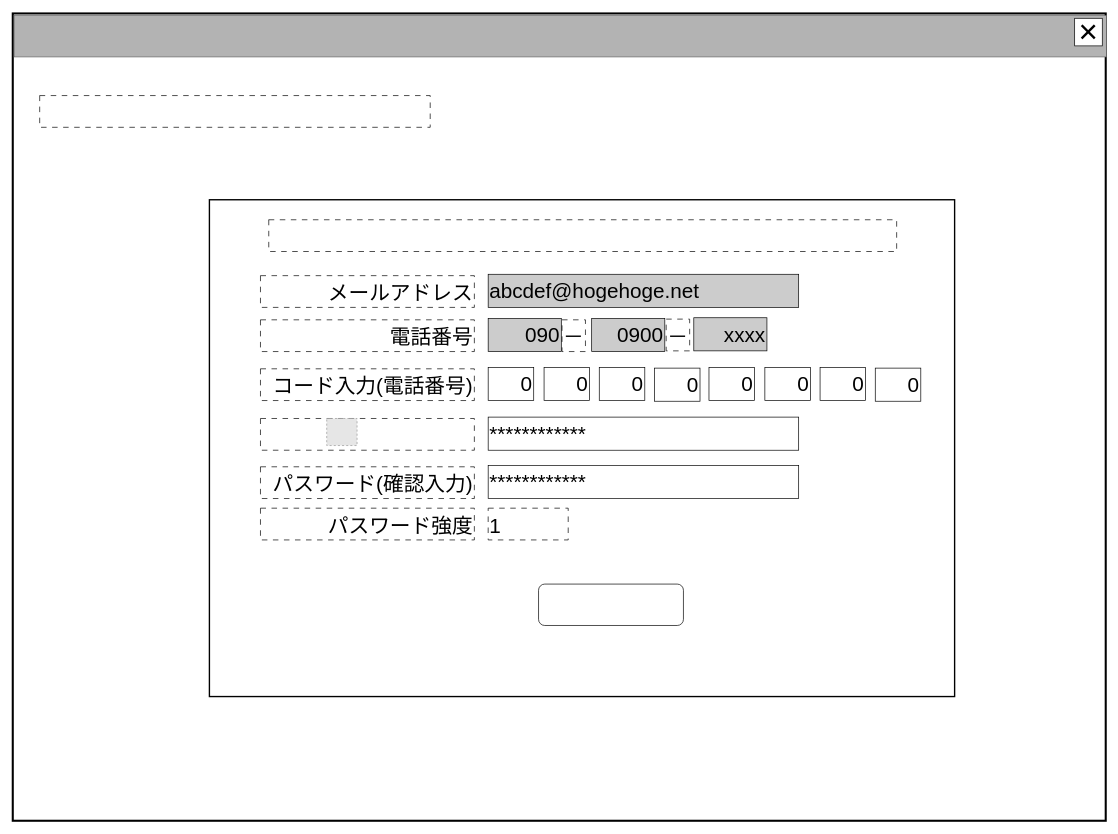
Some shapes in this 1118 by 834 pixel diagram are drawn without their labels. Grey dashed boxes stand in for pictures. The box of each missing label's shape, as (x1, y1, x2, y2) in pixels:
パスワード: (260, 418, 474, 450)
パスワードのリセット: (39, 95, 430, 127)
パスワードの入力: (268, 219, 897, 252)
保存: (538, 583, 683, 625)
